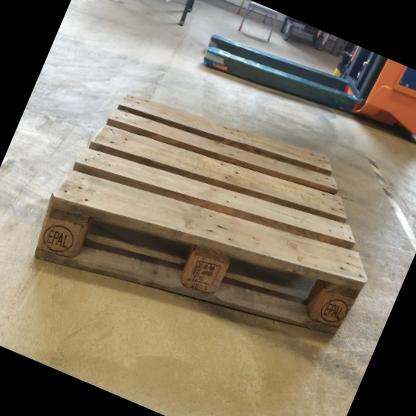BoxFace: (27, 91, 370, 340)
